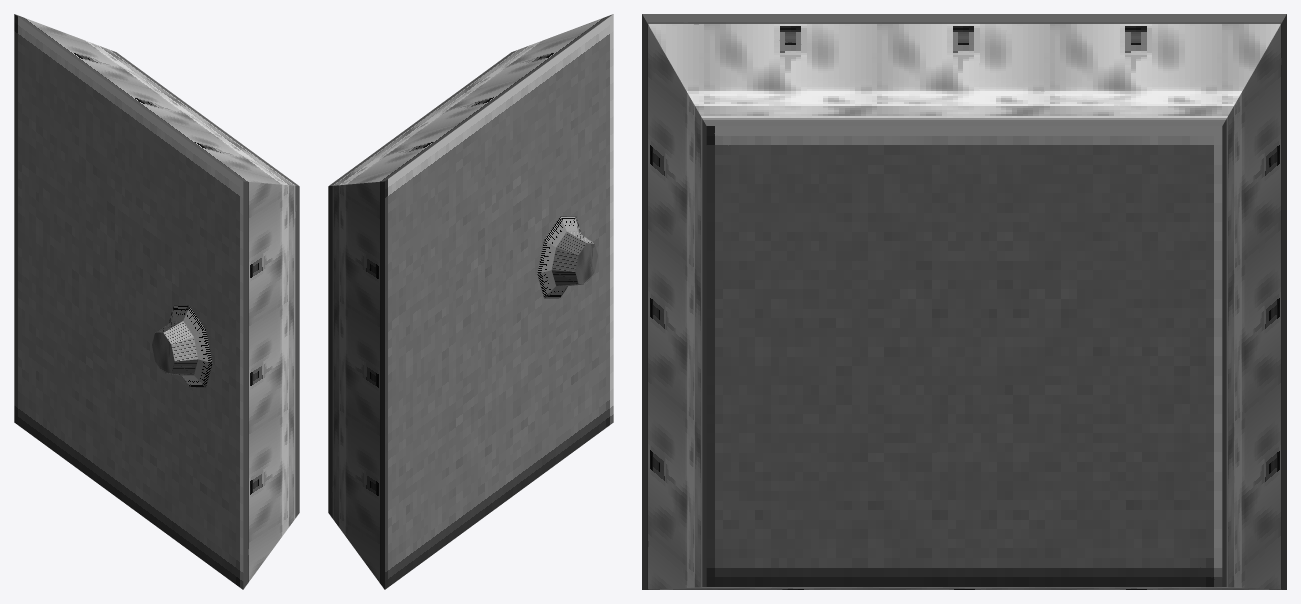
Rendered from primary_132.glb.
3 renders of one model, left to right at view 1: azimuth 30°, elevation 25°; view 2: azimuth 150°, elevation 25°; view 3: azimuth 270°, elevation 25°, orthographic. The views are drawn at different scales.
Parts seen in each view (by area): view 1: Object; view 2: Object; view 3: Object.
Boxes of the visible parts, <box> form: Object: <box>14,14,299,589</box>; Object: <box>328,14,613,589</box>; Object: <box>642,14,1286,589</box>.
Bounding box in the file's own units: 0.392 × 1.45 × 1.47.
12 materials, 12 textured.
